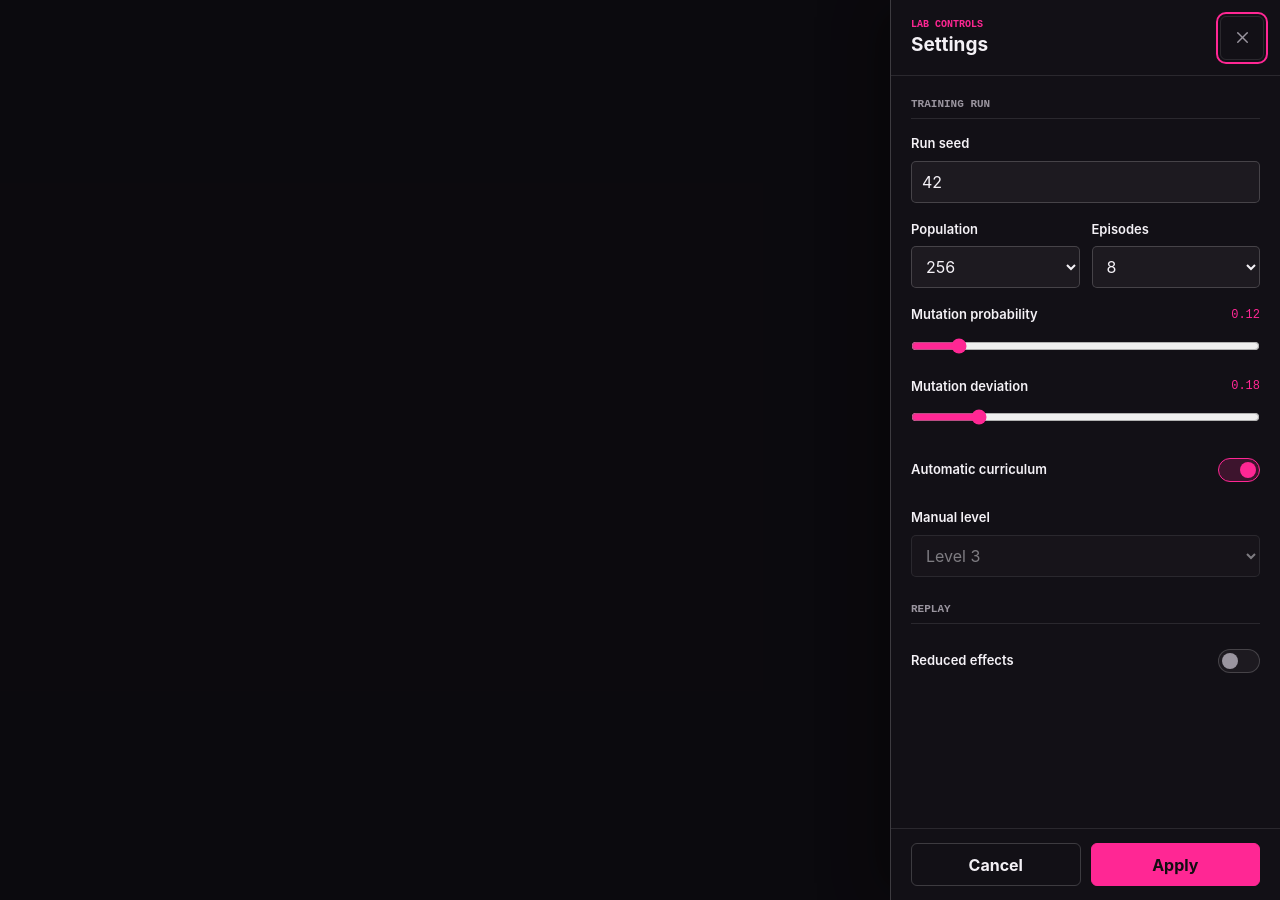
it: LabSettings › enables manual level only when automatic curriculum is off
This screenshot has width=1280, height=900.
Expected: the dropdown labelled "Manual level" is disabled, [911, 535, 1260, 577]
Click the switch labelled "Automatic curriculum": (1239, 470) [1218, 458, 1260, 482]
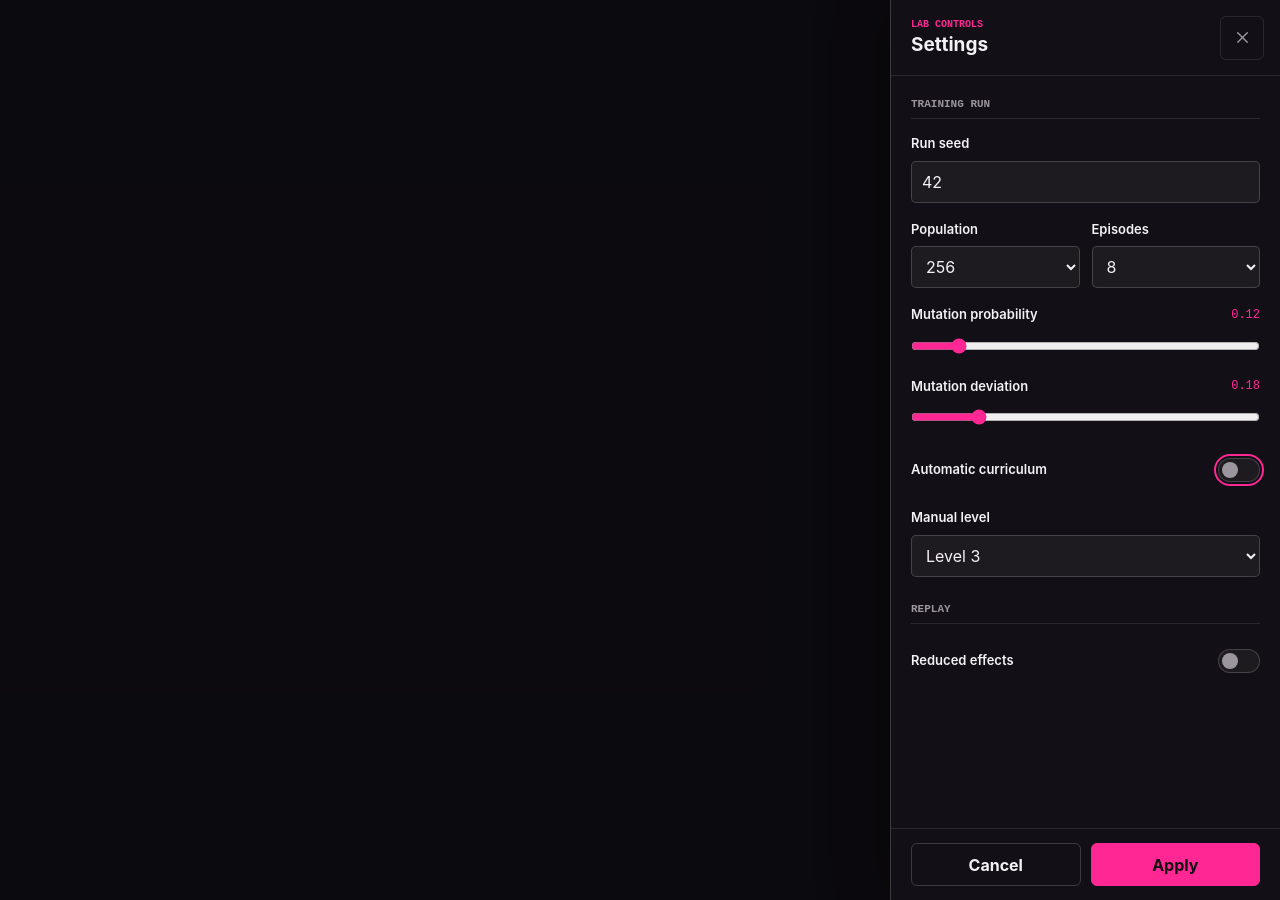
Expected: the dropdown labelled "Manual level" is enabled, [911, 535, 1260, 577]
Click the switch labelled "Automatic curriculum": (1239, 470) [1218, 458, 1260, 482]
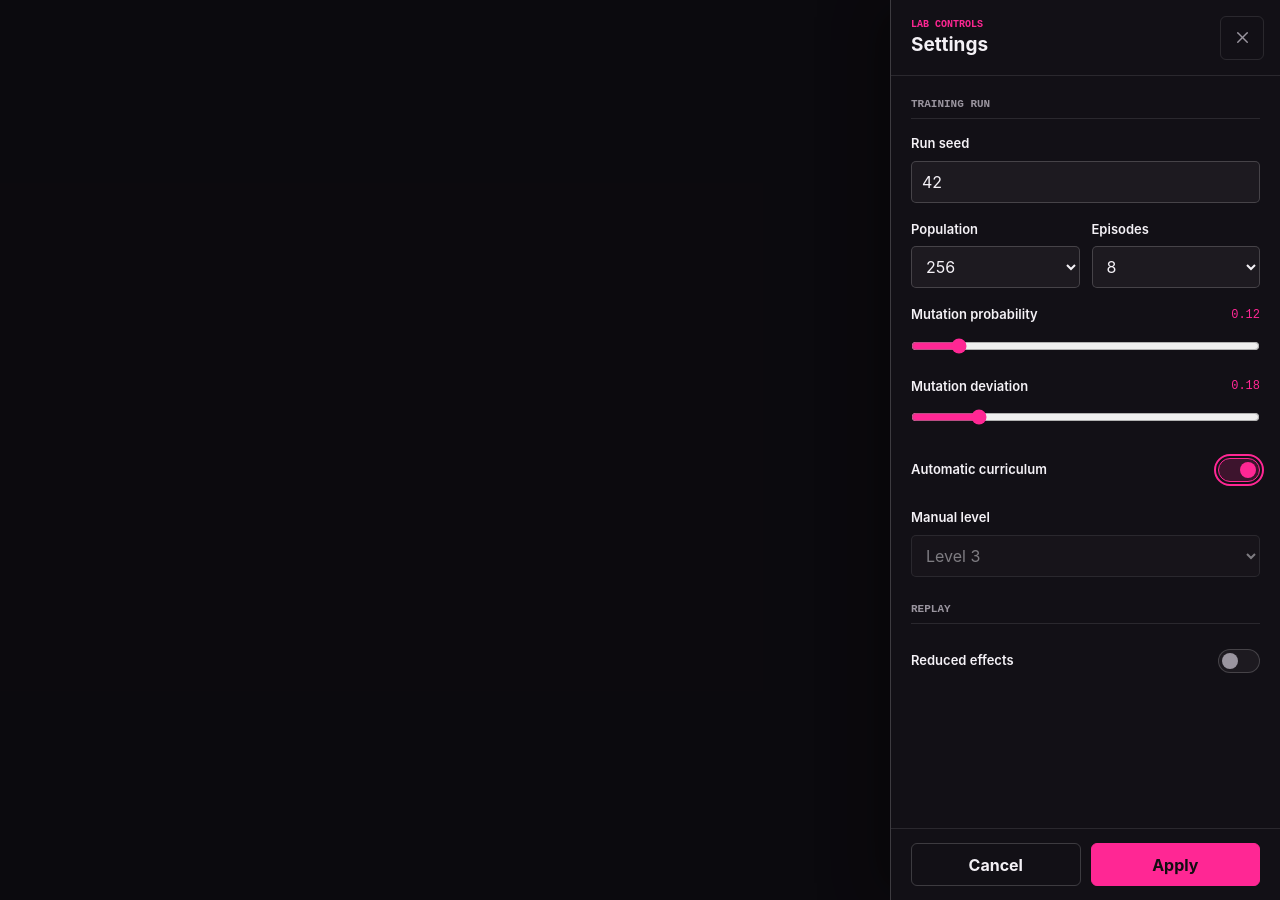
Expected: the dropdown labelled "Manual level" is disabled, [911, 535, 1260, 577]
